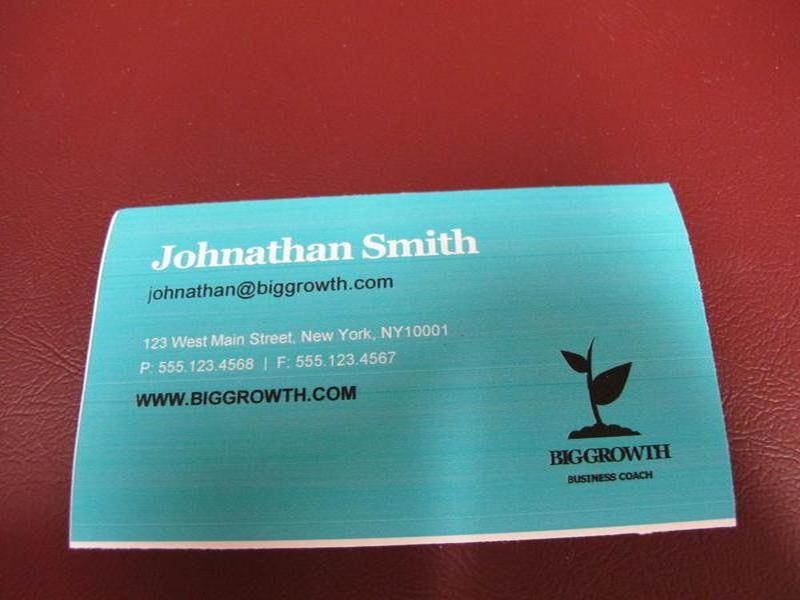card: (69, 178, 745, 534)
